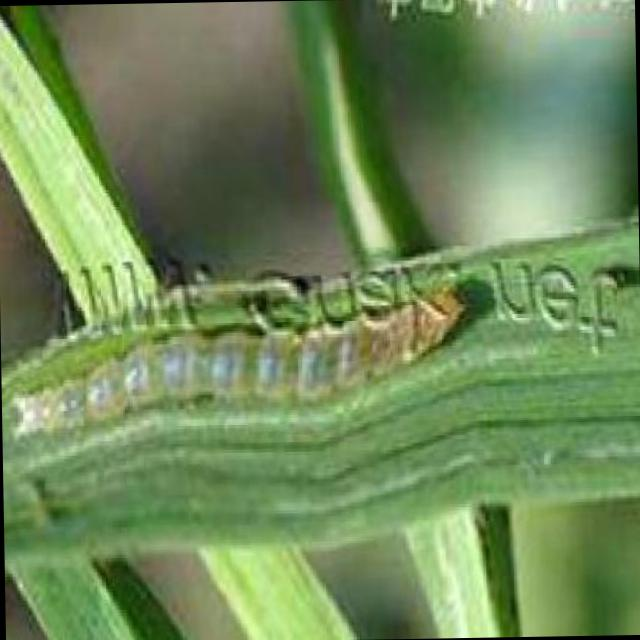leaf-folder: (18, 293, 480, 420)
